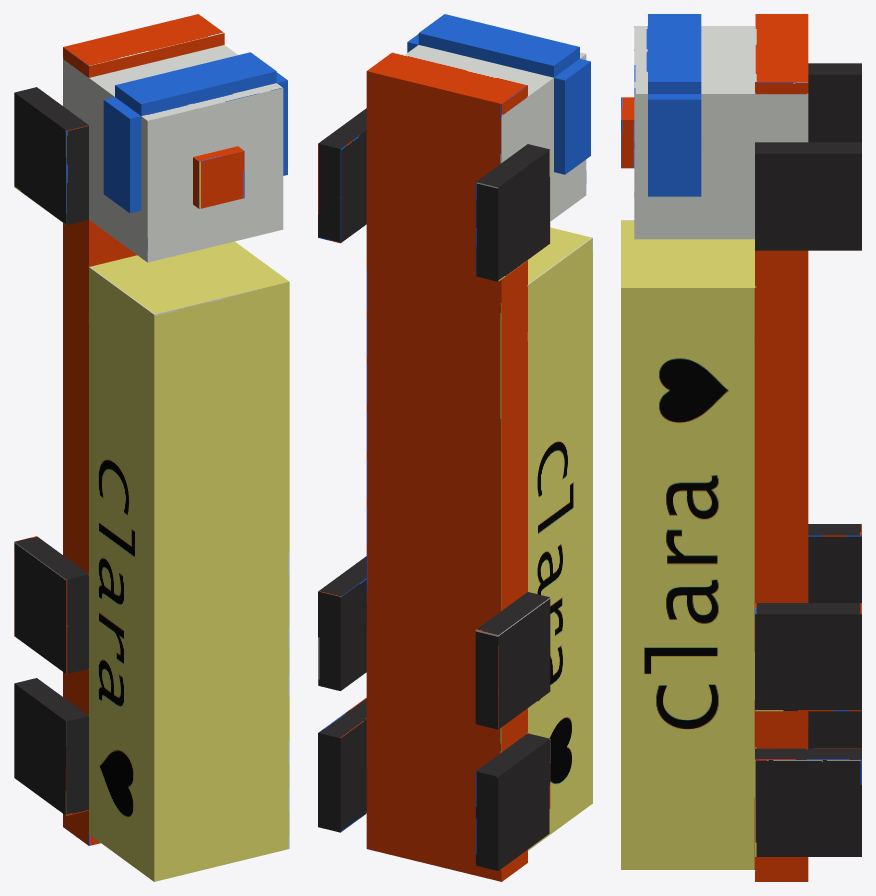
The model's file is caminhao.obj.
3 renders of one model, left to right at view 1: azimuth 30°, elevation 25°; view 2: azimuth 150°, elevation 25°; view 3: azimuth 270°, elevation 25°, orthographic. The views are drawn at different scales.
Parts seen in each view (by area): view 1: Cube; view 2: Cube; view 3: Cube.
Boxes of the visible parts, x1,y1,x2,y2 form: Cube: (14,14,289,881); Cube: (318,14,592,881); Cube: (621,14,861,881).
Bounding box in the file's own units: 1.6 × 6.6 × 1.8.
